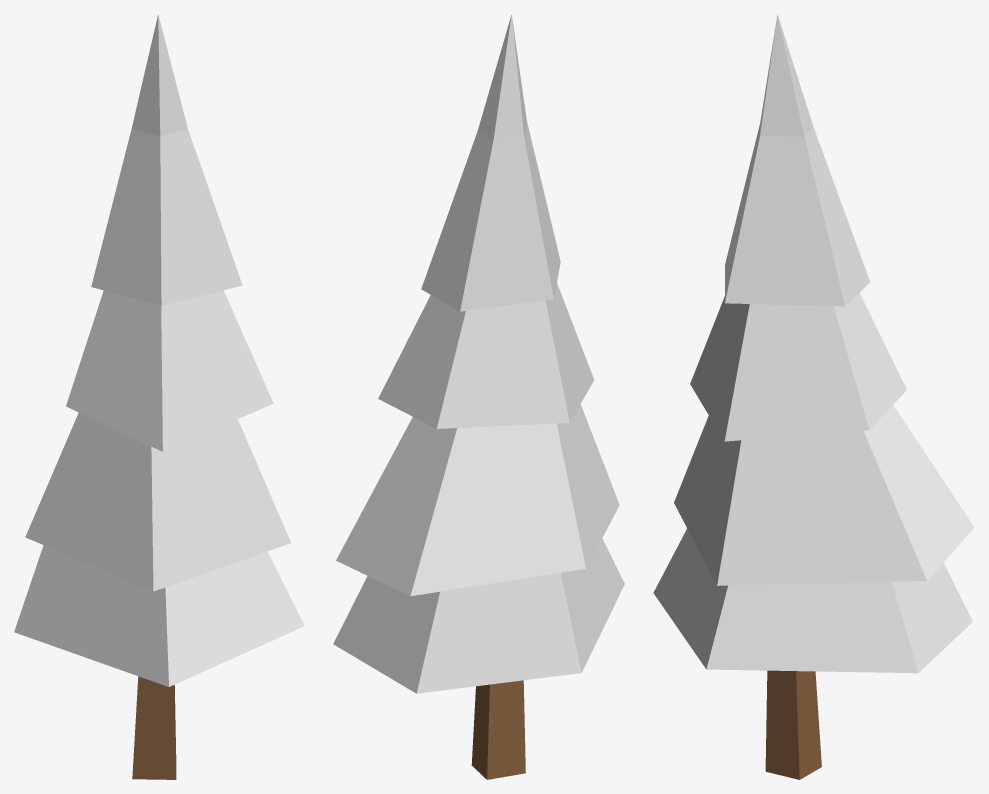
The model's file is Fir_Tree_OneSided_m_Snow_09_LOD.fbx.
3 views of the same model, side by side, from view 1: azimuth 30°, elevation 25°; view 2: azimuth 150°, elevation 25°; view 3: azimuth 270°, elevation 25° (orthographic).
Parts seen in each view (by area): view 1: Fir_Tree_OneSided_m_Snow_09_LOD0; view 2: Fir_Tree_OneSided_m_Snow_09_LOD0; view 3: Fir_Tree_OneSided_m_Snow_09_LOD0.
Boxes of the visible parts, bbox=[...] form: Fir_Tree_OneSided_m_Snow_09_LOD0: bbox=[14, 14, 304, 779]; Fir_Tree_OneSided_m_Snow_09_LOD0: bbox=[333, 15, 624, 779]; Fir_Tree_OneSided_m_Snow_09_LOD0: bbox=[653, 14, 974, 779].
Size of what is drawn, in the model's own units: 137 by 459 by 178.
